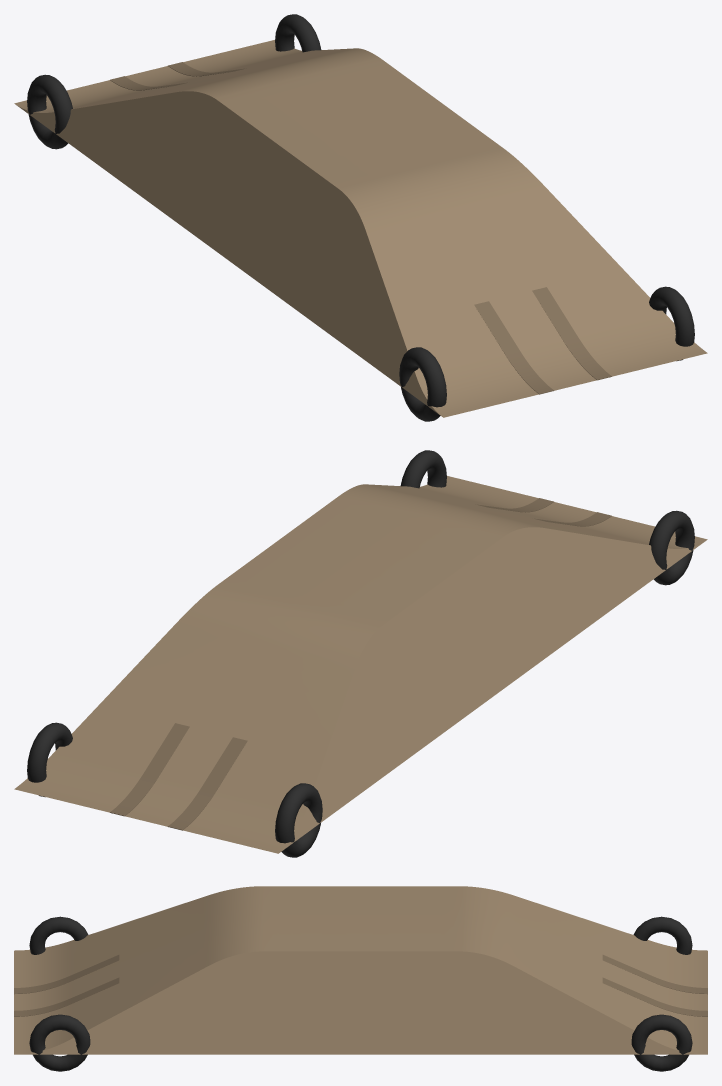
The model's file is tabletop.glb.
3 renders of one model, top to bottom at view 1: azimuth 30°, elevation 25°; view 2: azimuth 150°, elevation 25°; view 3: azimuth 270°, elevation 25°, orthographic. The views are drawn at different scales.
Parts seen in each view (by area): view 1: SM_tabletop; view 2: SM_tabletop; view 3: SM_tabletop.
Part boxes in pixels (x1,y1,x2,y2): SM_tabletop: [14, 14, 707, 421]; SM_tabletop: [14, 450, 707, 857]; SM_tabletop: [14, 886, 707, 1071].
Bounding box in the file's own units: 3.2 × 1.49 × 9.
